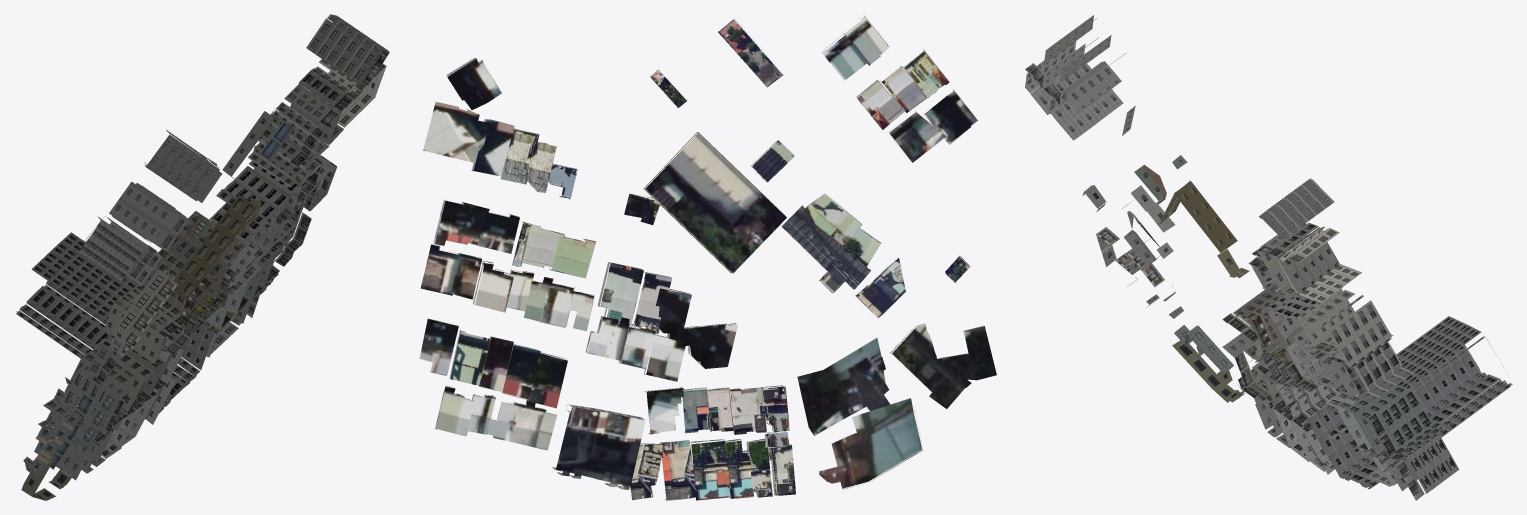
The model's file is tile_LOD4_r7_c15.glb.
3 views of the same model, side by side, from view 1: azimuth 30°, elevation 25°; view 2: azimuth 150°, elevation 25°; view 3: azimuth 270°, elevation 25° (orthographic). The views are drawn at different scales.
Size of the model in its own units: 156 by 133 by 141.
226 materials, 226 textured.
